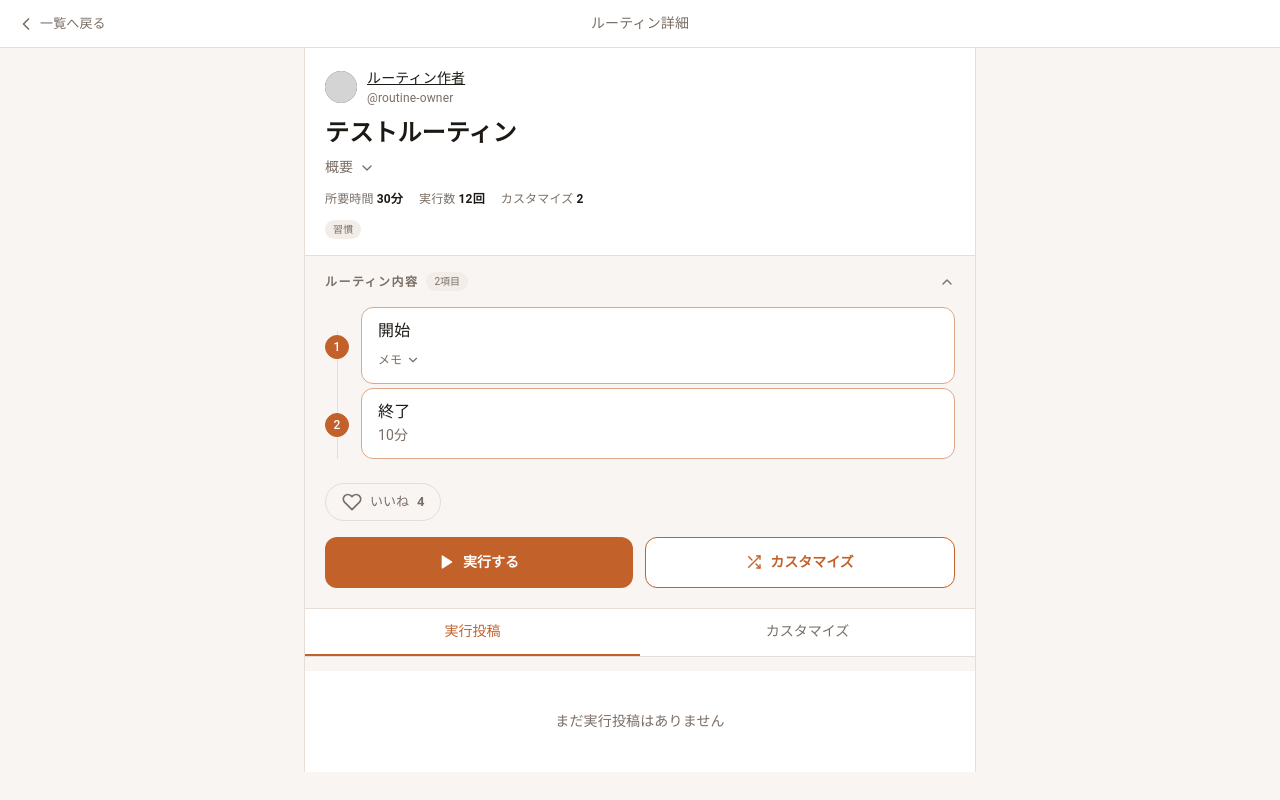
RoutineDetailPage › 実行投稿とカスタマイズのタブを切り替え、空状態を表示する
This screenshot has width=1280, height=800.
Expected: the heading "テストルーティン" is shown, [325,119,517,147]
Expected: the text "まだ実行投稿はありません" is shown, [555,713,725,729]
What coordinates should you click on to do the following:
click the tab "カスタマイズ"
I would click on:
 (808, 632)
Its box is [640,609,975,656].
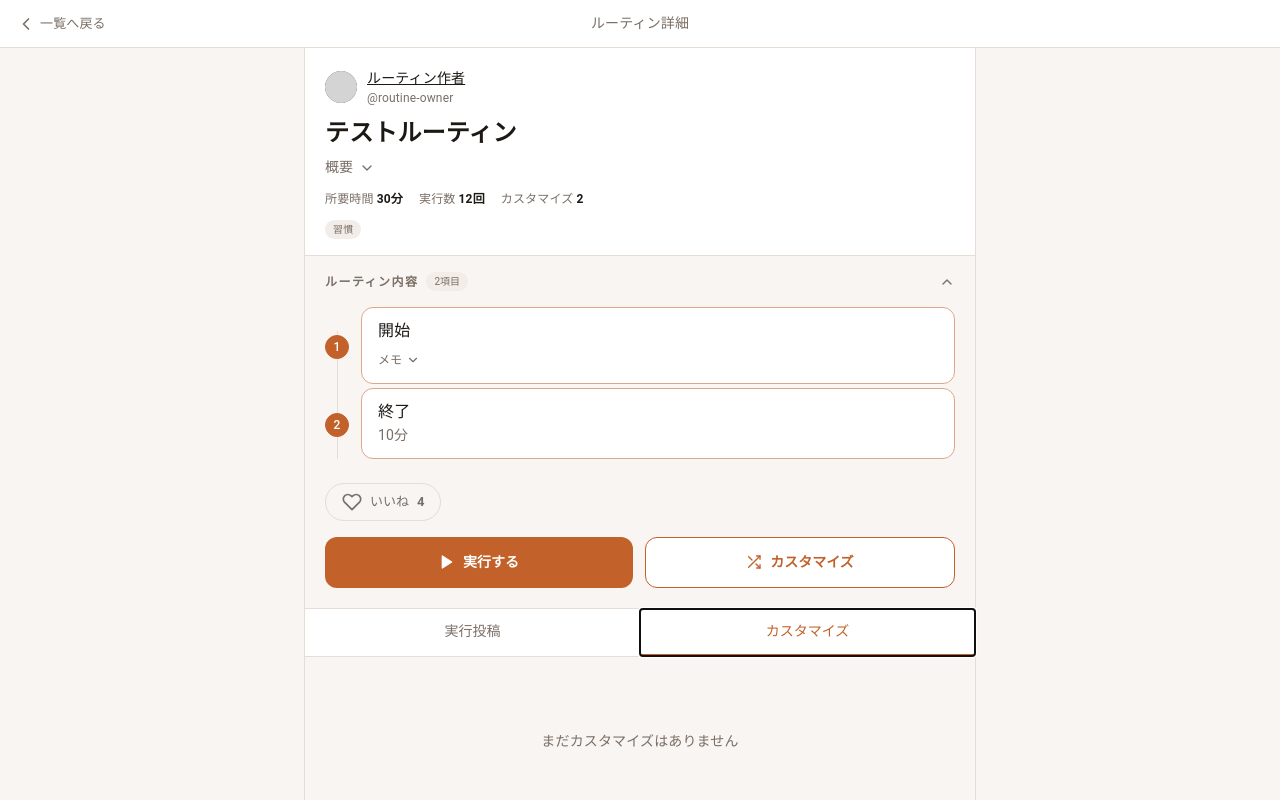
Result: the text "まだカスタマイズはありません" is shown at [541,733,739,749]
